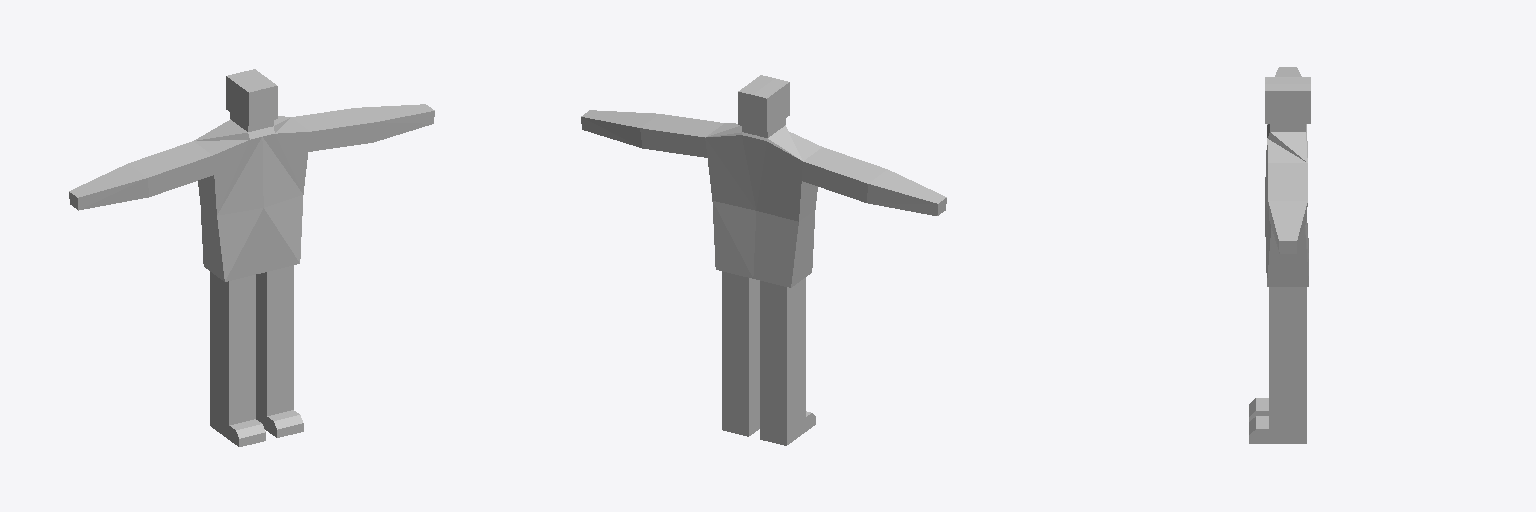
File: Character.obj
3 views of the same model, side by side, from view 1: azimuth 30°, elevation 25°; view 2: azimuth 150°, elevation 25°; view 3: azimuth 270°, elevation 25° (orthographic).
Visible parts, largest first — view 1: Character_Cube; view 2: Character_Cube; view 3: Character_Cube.
Boxes of the visible parts, <box> form: Character_Cube: <box>69,69,434,446</box>; Character_Cube: <box>581,75,946,445</box>; Character_Cube: <box>1249,67,1310,443</box>.
Size of the model in its own units: 4.08 by 3.76 by 0.6104.